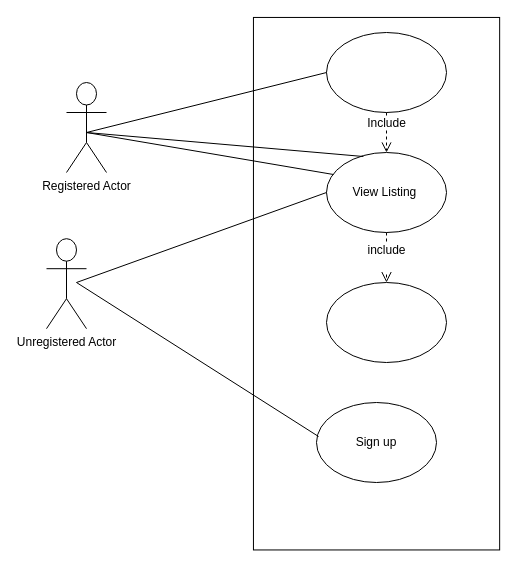
This 518x568 diagram has some shape labels left out. The centre of each missing label's shape, as x and y in pixels:
"Booking" goes at point (386, 322).
"Long in" goes at point (386, 72).
